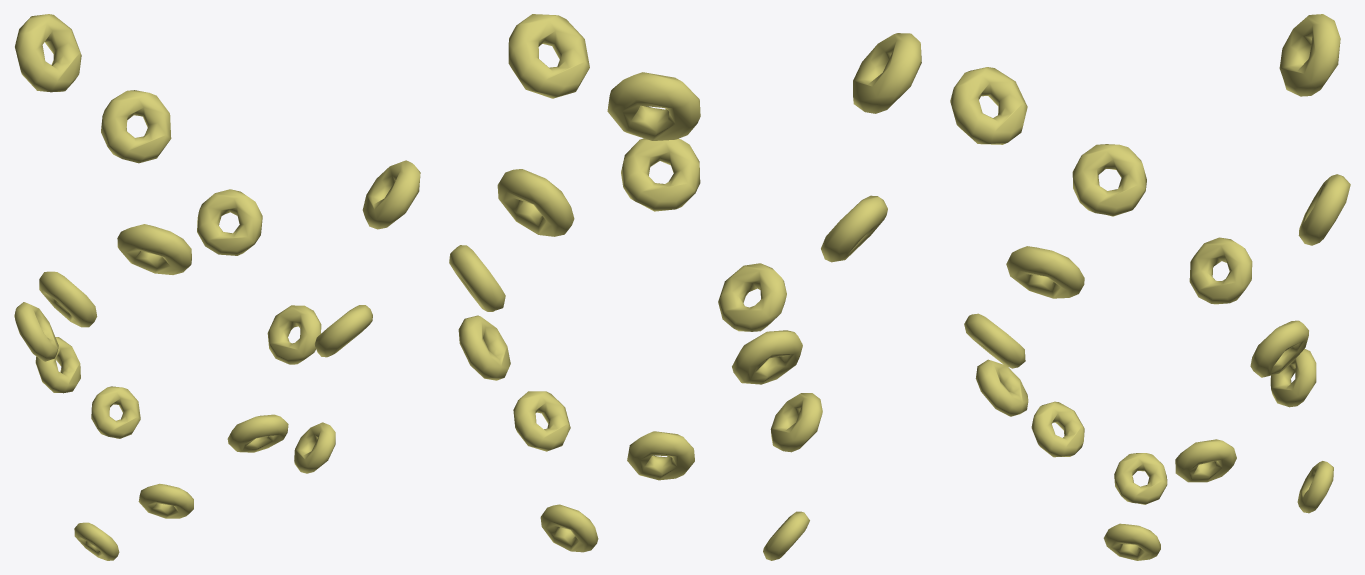
The model's file is donutado.gltf.
3 renders of one model, left to right at view 1: azimuth 30°, elevation 25°; view 2: azimuth 150°, elevation 25°; view 3: azimuth 270°, elevation 25°, orthographic. The views are drawn at different scales.
Parts seen in each view (by area): view 1: donas espiral; view 2: donas espiral; view 3: donas espiral.
Part boxes in pixels (x1,y1,x2,y2): donas espiral: (14, 14, 420, 560); donas espiral: (449, 14, 921, 560); donas espiral: (950, 14, 1350, 560).
Bounding box in the file's own units: 14.1 × 18.62 × 13.63.
